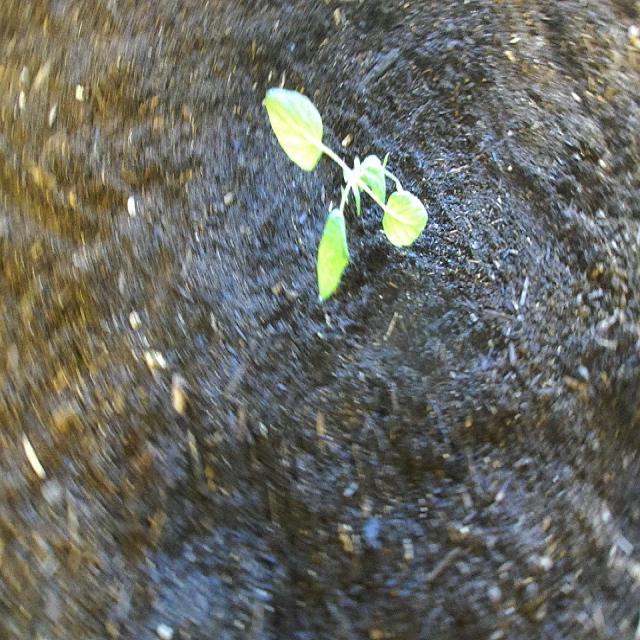Healthy: (254, 61, 432, 321)
